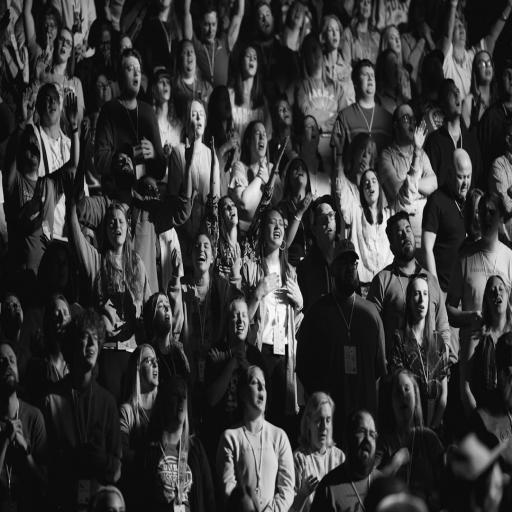face: (349, 413, 376, 467), (308, 403, 332, 450), (392, 374, 415, 423), (390, 219, 416, 261), (244, 368, 266, 413), (332, 256, 358, 294), (75, 329, 99, 370), (166, 380, 187, 424), (486, 276, 508, 317), (228, 301, 248, 344), (139, 348, 158, 392), (450, 161, 472, 199), (0, 344, 18, 390), (410, 278, 429, 321), (49, 249, 68, 292), (107, 209, 127, 249), (315, 203, 335, 242), (395, 105, 415, 143), (192, 235, 212, 273), (479, 202, 500, 238), (264, 211, 284, 248), (123, 56, 141, 97), (154, 294, 172, 334), (41, 89, 60, 125), (52, 299, 71, 334), (250, 123, 267, 161), (353, 140, 373, 172), (3, 296, 23, 327), (362, 170, 379, 206), (257, 5, 274, 39), (305, 40, 322, 74), (190, 101, 205, 138), (24, 133, 40, 167), (445, 84, 461, 118), (57, 29, 73, 62), (202, 11, 218, 44), (476, 52, 493, 83), (289, 163, 308, 190), (96, 75, 111, 108), (359, 67, 375, 97), (221, 198, 237, 228), (303, 116, 319, 145), (326, 18, 340, 50), (155, 76, 171, 104), (243, 47, 257, 78), (140, 176, 159, 198), (218, 88, 231, 120), (277, 100, 292, 126), (472, 196, 481, 238), (115, 153, 133, 174), (387, 28, 401, 54), (290, 2, 304, 27), (45, 15, 57, 44), (453, 19, 466, 44), (99, 31, 110, 56), (502, 69, 511, 97)
